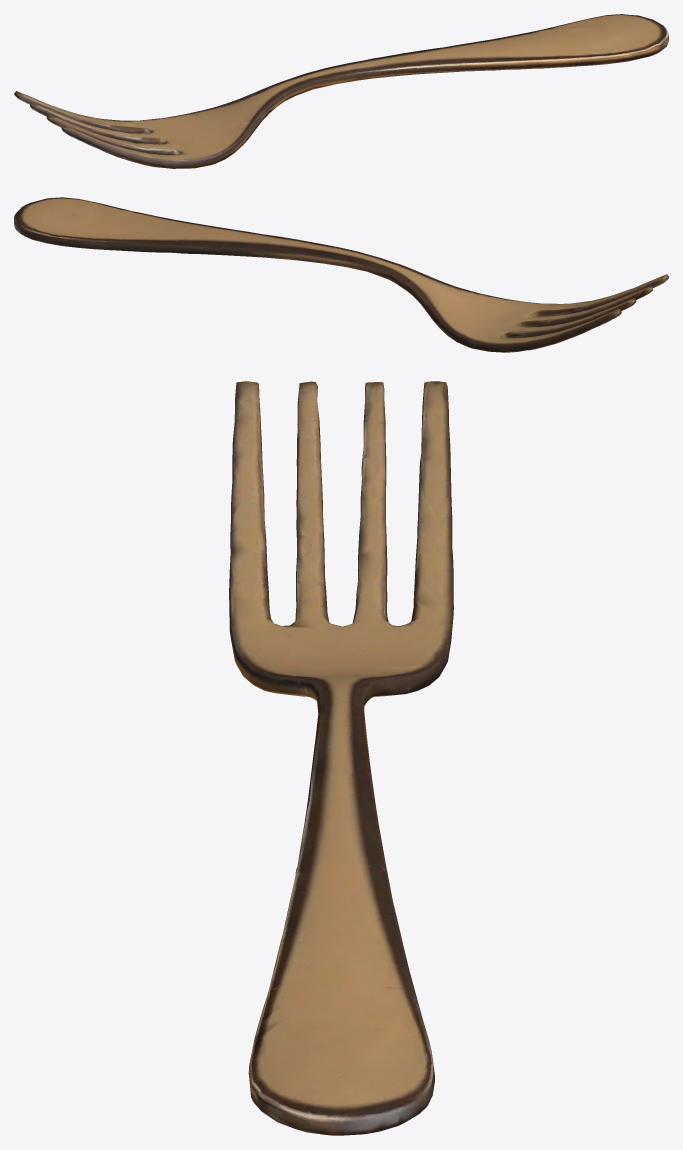
File: fork.glb
3 renders of one model, top to bottom at view 1: azimuth 30°, elevation 25°; view 2: azimuth 150°, elevation 25°; view 3: azimuth 270°, elevation 25°, orthographic. The views are drawn at different scales.
Size of the model in its own units: 1.9 by 0.2282 by 0.2966.
Materials: 1 (1 with a texture image).
